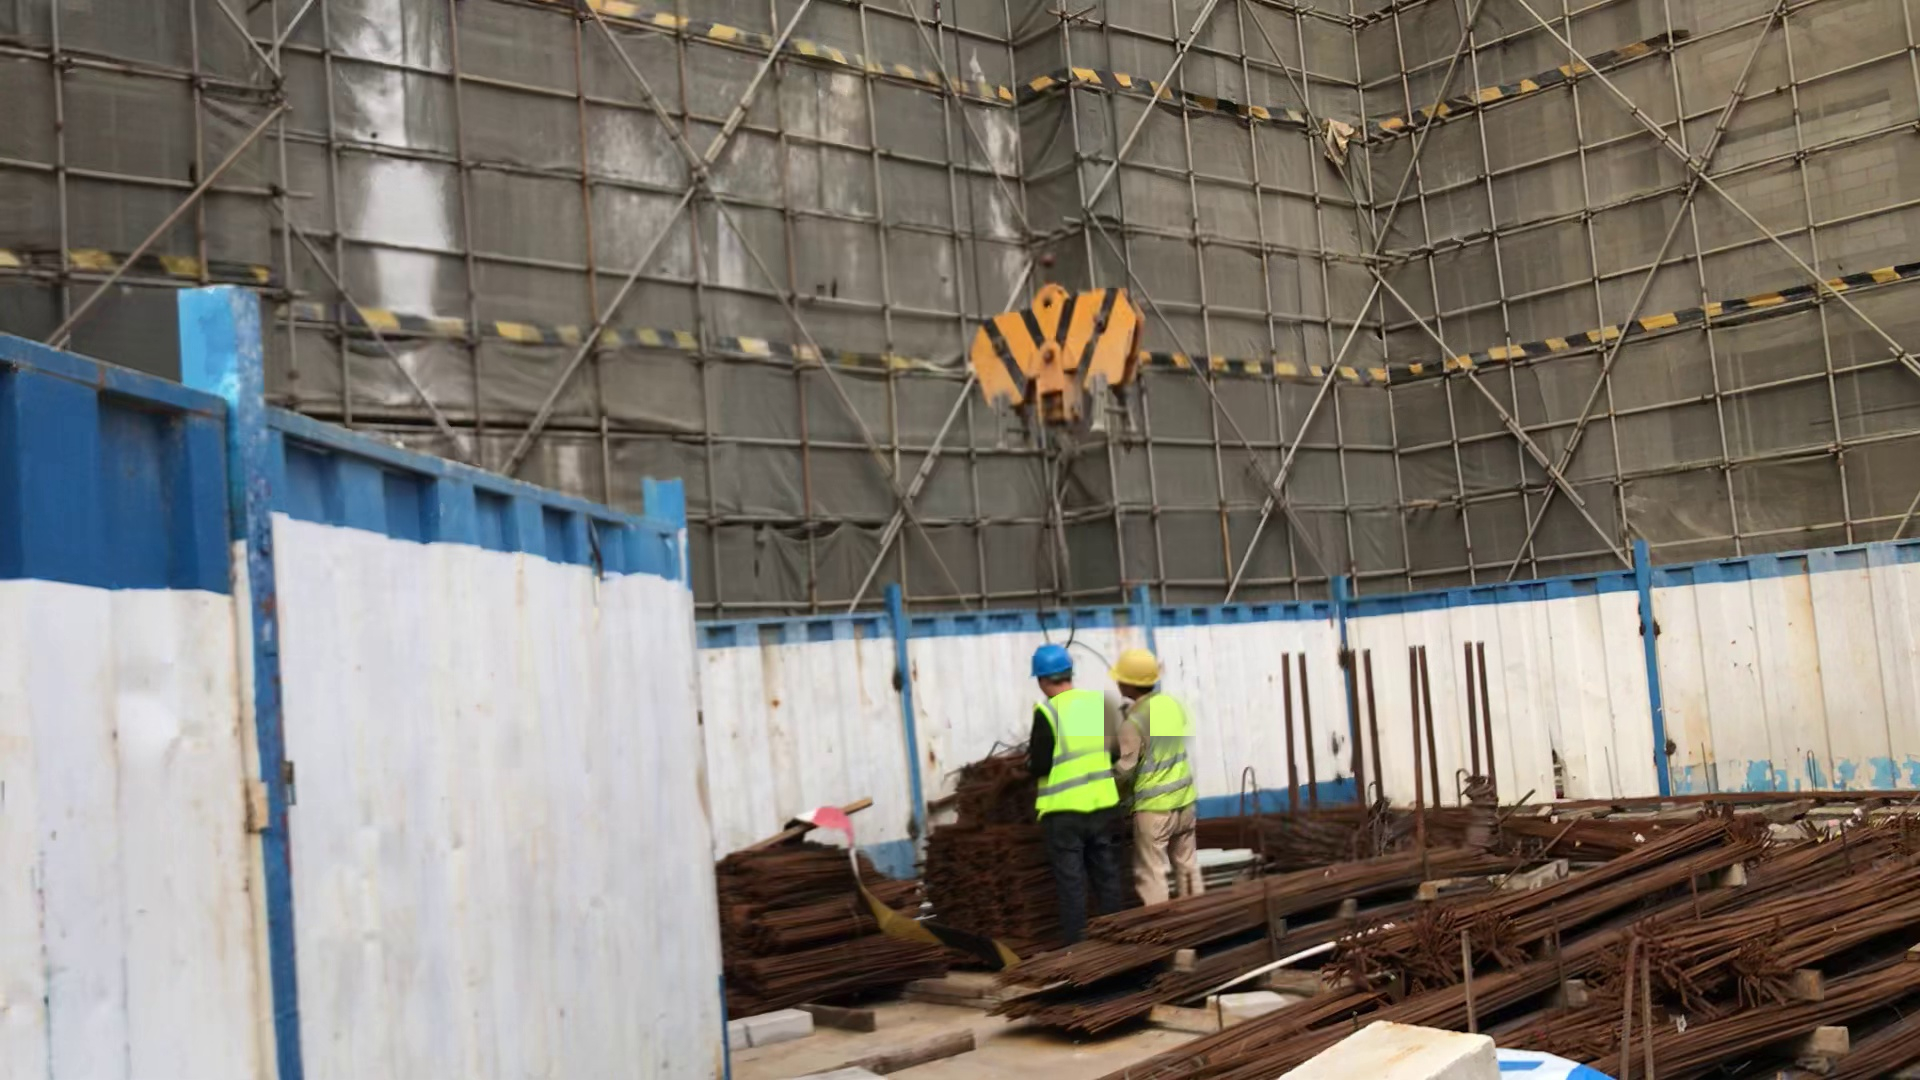helmet: (1110, 648, 1161, 684), (1031, 644, 1072, 678)
hook: (971, 270, 1142, 466)
person: (1030, 645, 1118, 924), (1109, 648, 1198, 908)
rebar: (1455, 862, 1920, 1071), (1008, 862, 1494, 987)
vest: (1040, 696, 1121, 822), (1135, 700, 1194, 812)
